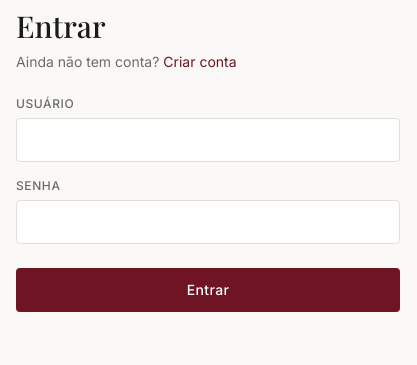
Test: Login › mostra mensagem de credenciais invalidas no 404
The width and height of the screenshot is (417, 365).
In the field labelled "Usuário": [208, 140] box 16,118 -> 400,162, type "maria"
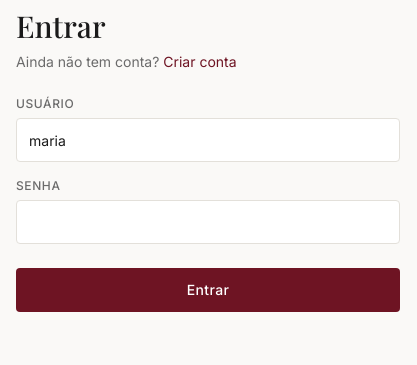
In the password field labelled "Senha": [208, 222] box 16,200 -> 400,244, type "segredo1"
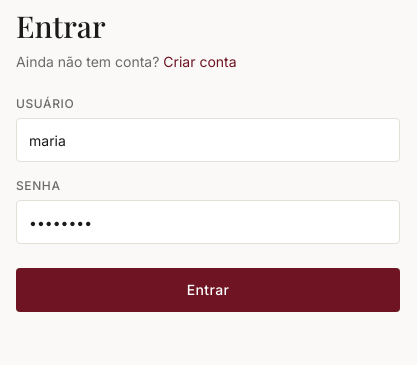
Click the button "Entrar": [208, 290] box 16,268 -> 400,312
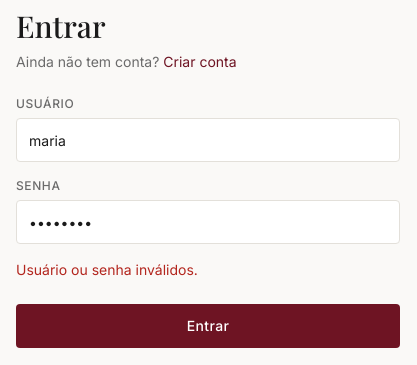
Expected: the message reads "Usuário ou senha inválidos.", 16,261 -> 198,278
